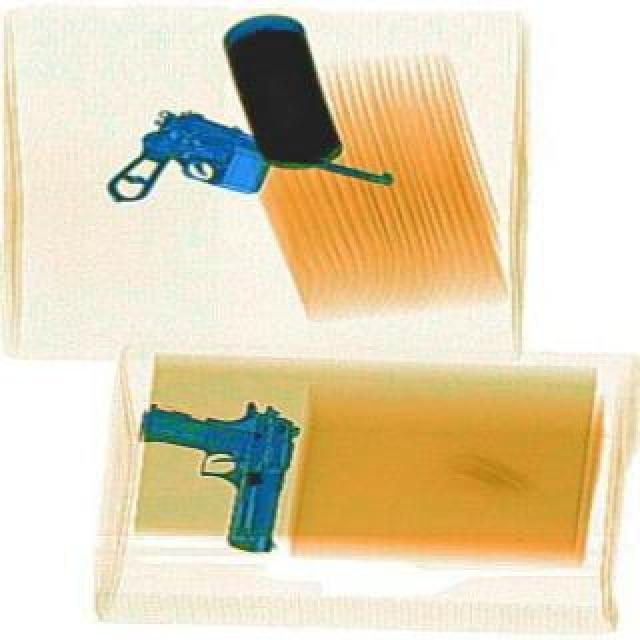gun: (100, 92, 396, 274), (110, 380, 302, 556)
